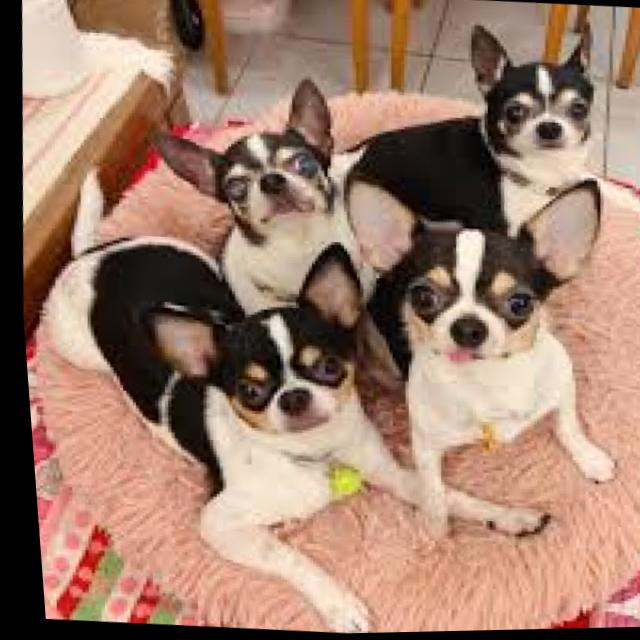Chihuahua: (331, 168, 609, 376), (132, 231, 370, 453), (138, 69, 341, 251), (458, 13, 603, 178)
